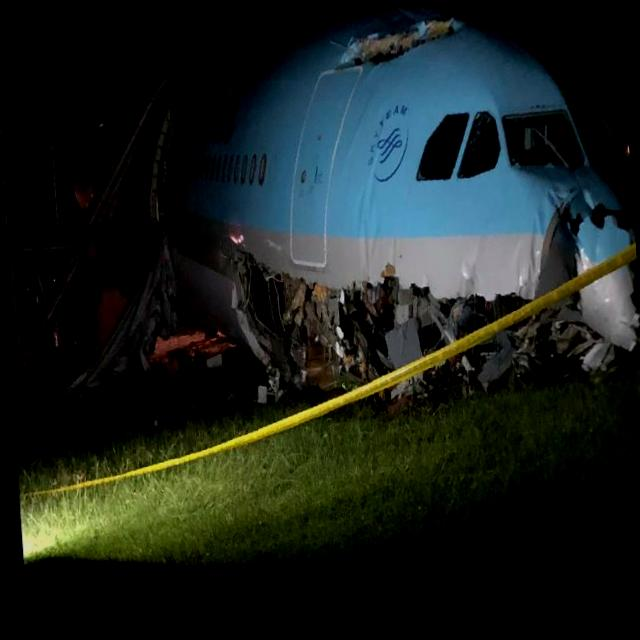crack: (332, 18, 468, 72)
